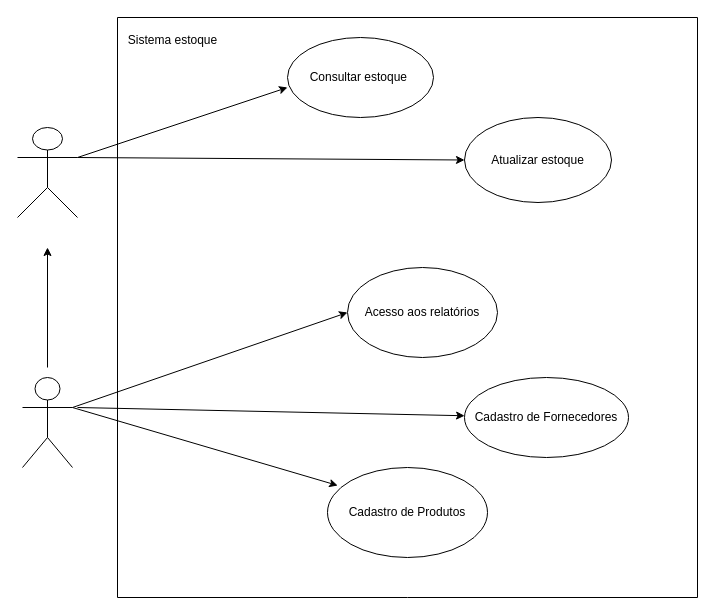
The diagram is 716 pixels wide and 616 high, and some of its shapes have lost their labels. The shapes that lost their labels are listed below. From the top down, each one's centre as x and y in pixels, then its label:
At [47,172]: "Estoque".
At [47,422]: "Gerente".
